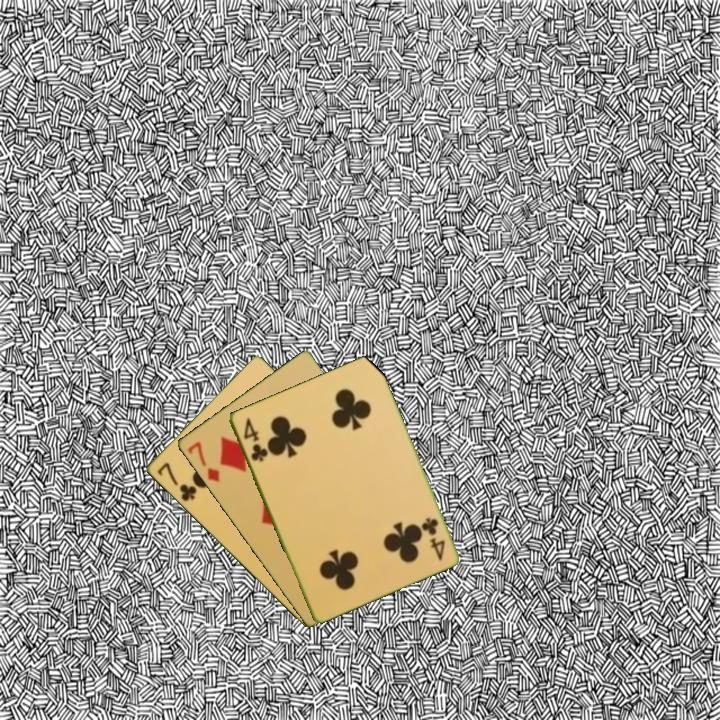4c: (240, 414, 270, 464), (419, 514, 448, 563)
7c: (153, 459, 199, 504)
7d: (183, 438, 222, 485)
